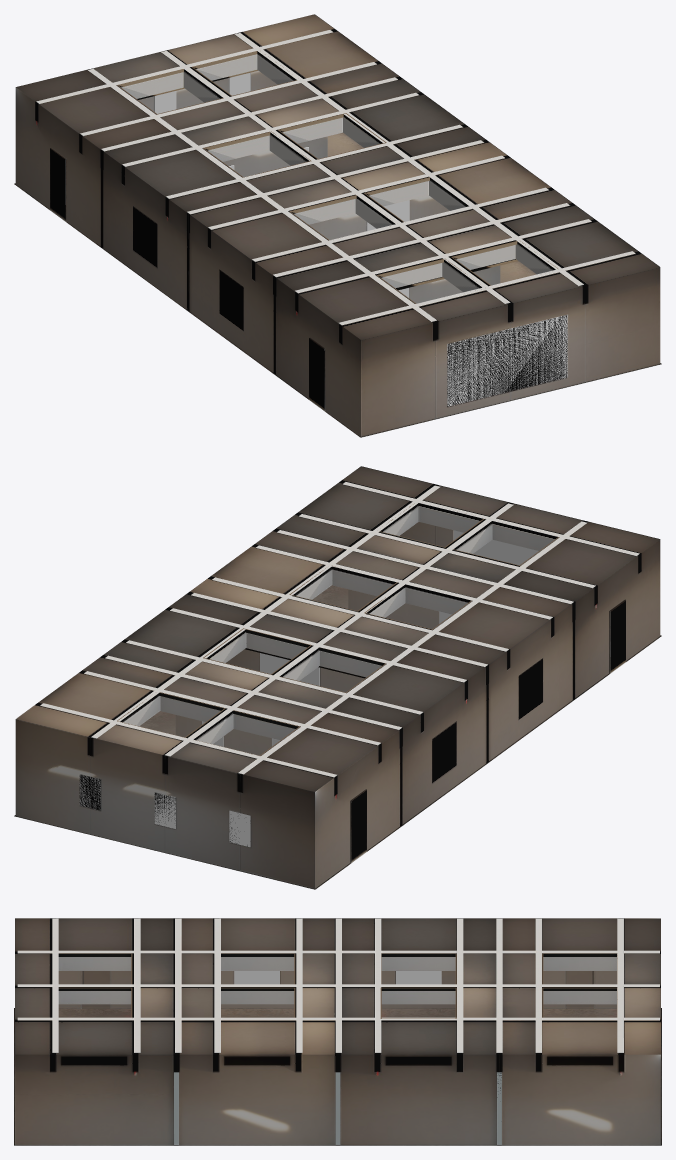
The model's file is Room.glb.
The picture shows the model from 3 angles, top to bottom: view 1: azimuth 30°, elevation 25°; view 2: azimuth 150°, elevation 25°; view 3: azimuth 270°, elevation 25°; orthographic projection. The views are drawn at different scales.
Parts seen in each view (by area): view 1: walls, celling, beams, frames.000, walls_interior, lamps, floor; view 2: walls, celling, beams, walls_interior, lamps, floor, frames.000, frames.007, frames.005, frames.009; view 3: walls, celling, beams, lamps, floor, walls_interior, frames.011, frames.012.
Part boxes in pixels (x1=…): walls: x1=14, y1=14, x2=661, y2=437; celling: x1=16, y1=14, x2=659, y2=339; beams: x1=36, y1=30, x2=635, y2=325; frames.000: x1=447, y1=314, x2=567, y2=406; walls_interior: x1=223, y1=136, x2=500, y2=303; lamps: x1=116, y1=51, x2=557, y2=312; floor: x1=327, y1=132, x2=536, y2=283; walls: x1=14, y1=466, x2=661, y2=889; celling: x1=16, y1=466, x2=659, y2=791; beams: x1=40, y1=482, x2=639, y2=777; walls_interior: x1=175, y1=589, x2=439, y2=755; lamps: x1=117, y1=503, x2=596, y2=755; floor: x1=139, y1=585, x2=348, y2=734; frames.000: x1=453, y1=530, x2=538, y2=565; frames.007: x1=229, y1=810, x2=250, y2=847; frames.005: x1=154, y1=793, x2=175, y2=828; frames.009: x1=260, y1=653, x2=319, y2=685; walls: x1=14, y1=918, x2=661, y2=1145; celling: x1=15, y1=918, x2=660, y2=1054; beams: x1=17, y1=918, x2=659, y2=1052; lamps: x1=58, y1=953, x2=617, y2=1018; floor: x1=58, y1=1008, x2=616, y2=1017; walls_interior: x1=174, y1=1072, x2=501, y2=1144; frames.011: x1=396, y1=971, x2=441, y2=984; frames.012: x1=234, y1=971, x2=279, y2=984.
Bounding box in the file's own units: 10.08 × 3.1 × 20.07.
Materials: 8 (7 with a texture image).
